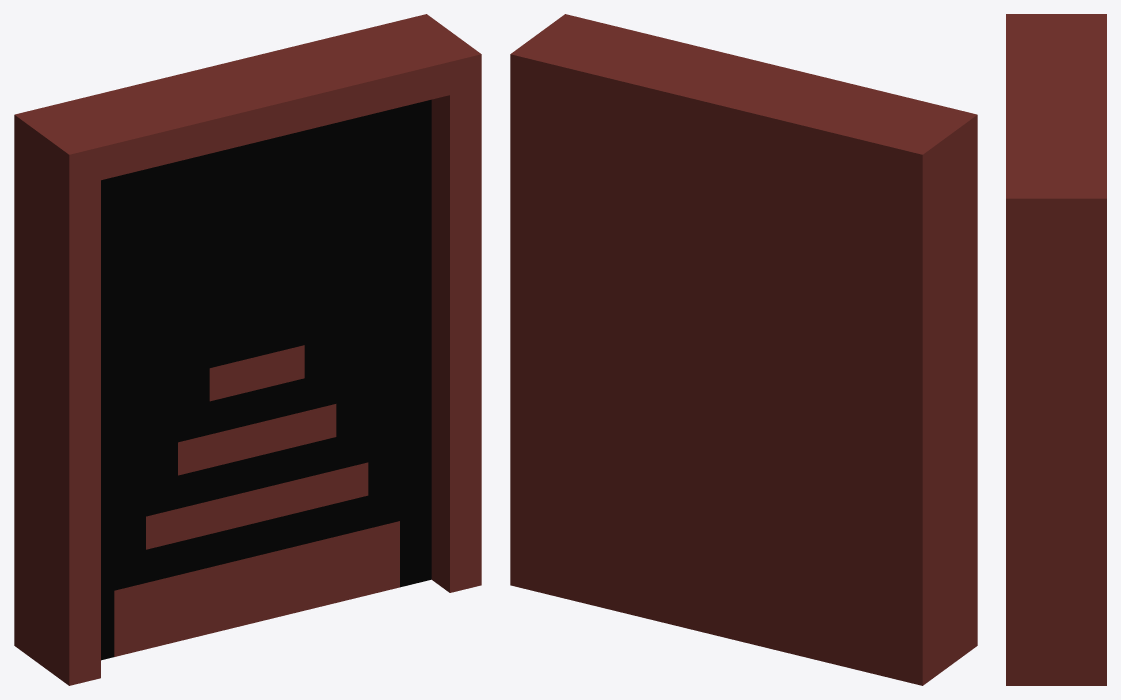
File: dungeon_b_a_entrance_c.obj
The picture shows the model from 3 angles, left to right: view 1: azimuth 30°, elevation 25°; view 2: azimuth 150°, elevation 25°; view 3: azimuth 270°, elevation 25°; orthographic projection. The views are drawn at different scales.
Bounding box in the file's own units: 1.3 × 1.6 × 0.3.
1 material, 1 textured.
